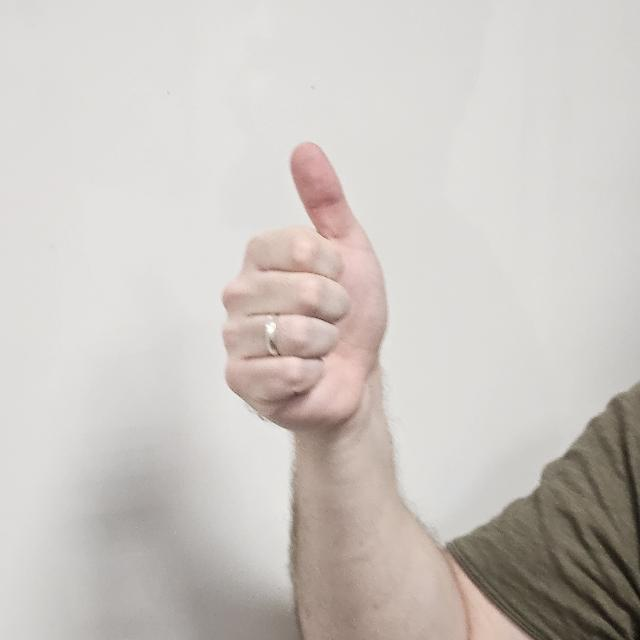Start: (216, 140, 394, 436)
